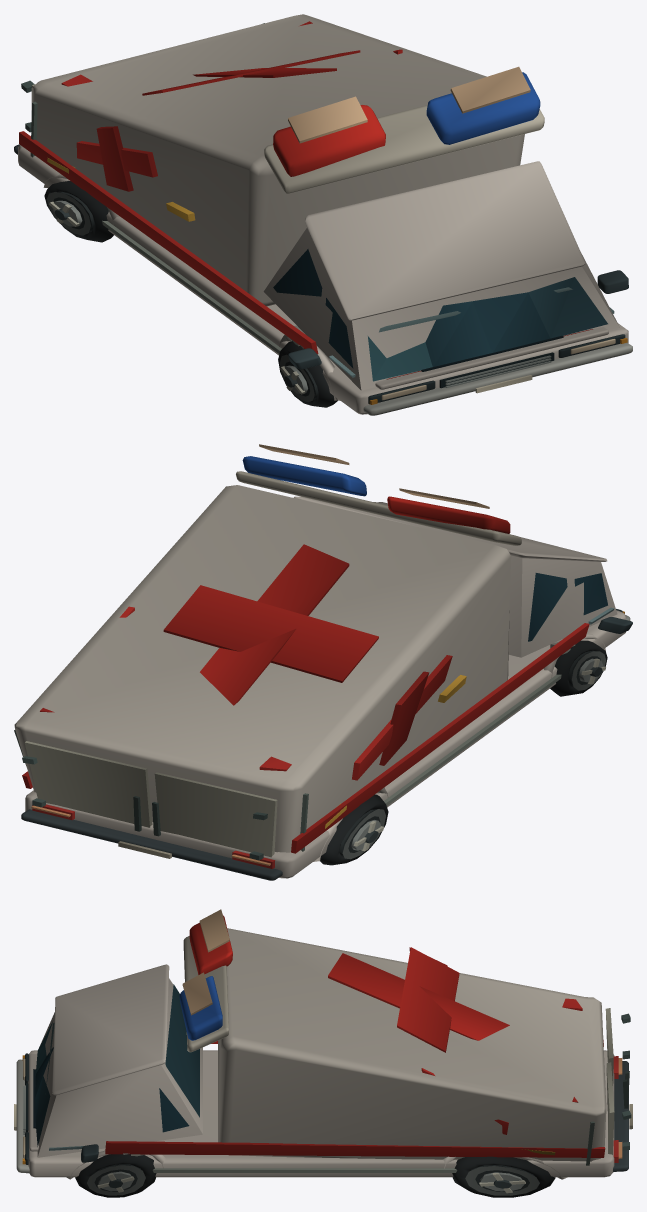
The model's file is ambulance.glb.
3 views of the same model, one above another, from view 1: azimuth 30°, elevation 25°; view 2: azimuth 150°, elevation 25°; view 3: azimuth 270°, elevation 25° (orthographic). The views are drawn at different scales.
Visible parts, largest first — view 1: ambulance_body; view 2: ambulance_body; view 3: ambulance_body.
Boxes of the visible parts, box(x1,y1,x2,y2) form: ambulance_body: box(14, 14, 632, 415); ambulance_body: box(14, 444, 632, 880); ambulance_body: box(14, 909, 632, 1197).
Bounding box in the file's own units: 2.44 × 1.57 × 4.58.
